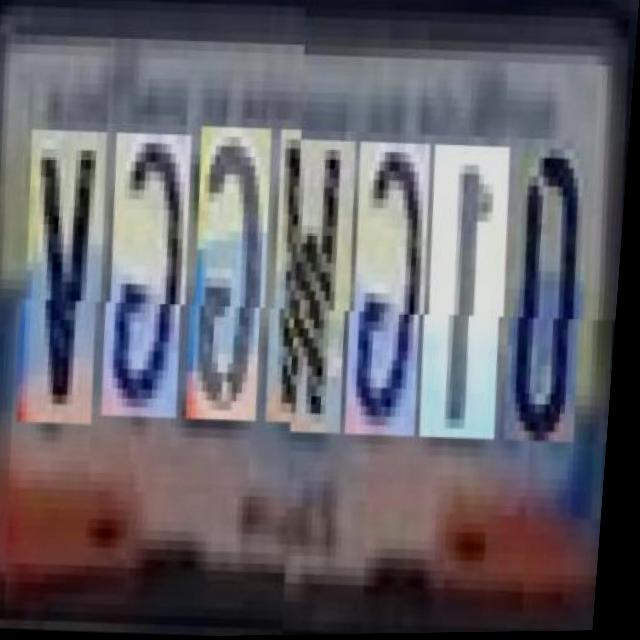0: (498, 150, 594, 446)
1: (413, 147, 515, 444)
g: (95, 147, 196, 433), (179, 140, 275, 437), (339, 145, 434, 442)
v: (9, 145, 111, 441)
w: (259, 142, 361, 439)
